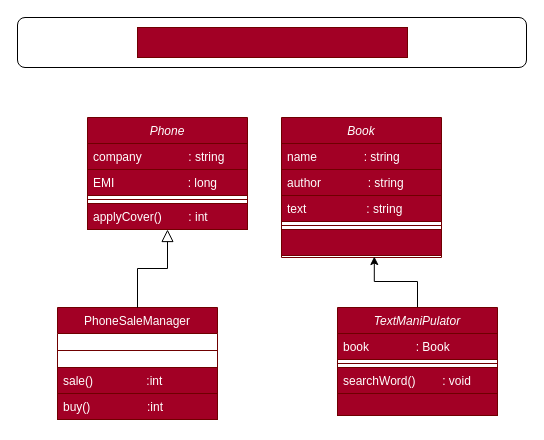
This 544x440 diagram has some shape labels left out. The centre of each missing label's shape, as x and y in pixels:
printBook() : void: the point at 361,242
replaceWord() : void: the point at 417,404
Single Responsibility: the point at 272,42
